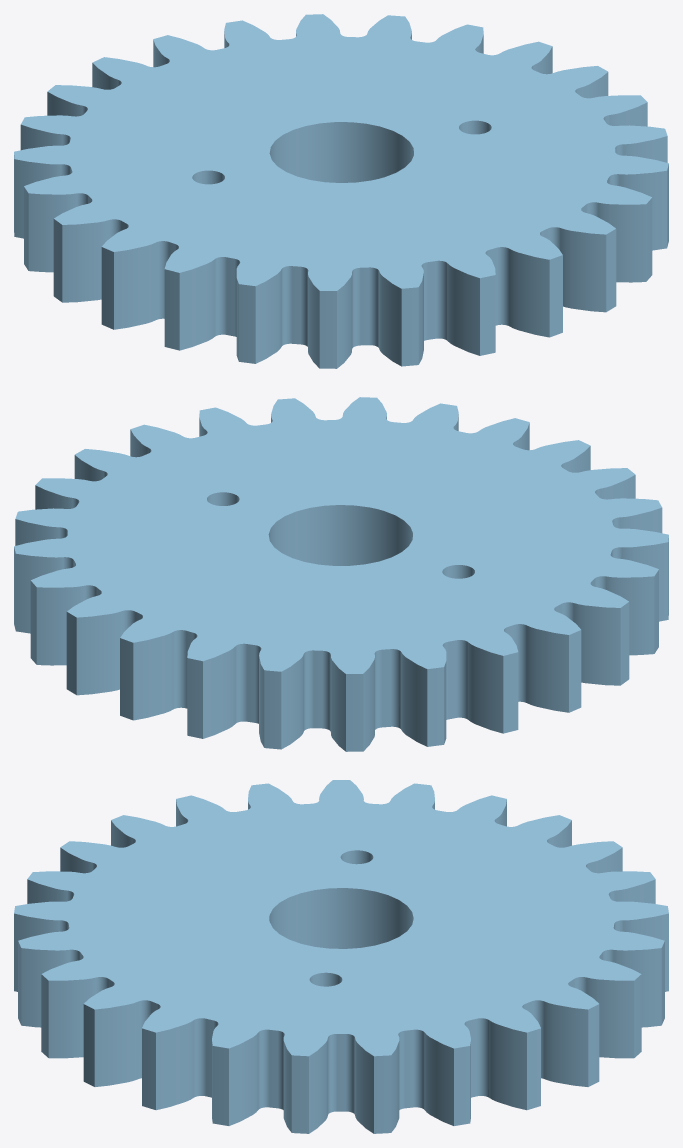
The model's file is Spur_gear__25_teeth_.obj.
3 renders of one model, top to bottom at view 1: azimuth 30°, elevation 25°; view 2: azimuth 150°, elevation 25°; view 3: azimuth 270°, elevation 25°, orthographic.
Parts seen in each view (by area): view 1: mesh725, mesh877, mesh816, mesh847, mesh852, mesh821, mesh837, mesh801, mesh826, mesh857, mesh842, mesh796 (+30 smaller); view 2: mesh725, mesh877, mesh777, mesh861, mesh856, mesh782, mesh871, mesh762, mesh787, mesh851, mesh866, mesh757 (+30 smaller); view 3: mesh725, mesh877, mesh756, mesh797, mesh761, mesh802, mesh766, mesh807, mesh771, mesh812, mesh776, mesh817 (+31 smaller).
Part boxes in pixels (x1,y1,x2,y2): mesh725: (14, 14, 668, 290); mesh877: (269, 122, 413, 182); mesh816: (560, 228, 606, 312); mesh847: (114, 242, 156, 329); mesh852: (62, 220, 108, 302); mesh821: (509, 249, 549, 337); mesh837: (179, 259, 214, 350); mesh801: (598, 202, 646, 282); mesh826: (447, 264, 479, 355); mesh857: (28, 193, 76, 272); mesh842: (255, 269, 281, 363); mesh796: (619, 170, 667, 250); mesh725: (14, 397, 668, 673); mesh877: (268, 505, 412, 565); mesh777: (76, 611, 122, 695); mesh861: (526, 625, 568, 712); mesh856: (574, 603, 620, 685); mesh782: (133, 632, 173, 720); mesh871: (468, 642, 503, 733); mesh762: (36, 585, 84, 665); mesh787: (203, 647, 235, 738); mesh851: (606, 576, 654, 655); mesh866: (401, 652, 427, 746); mesh757: (15, 553, 63, 633); mesh725: (14, 780, 668, 1056); mesh877: (269, 888, 413, 948); mesh756: (544, 1001, 588, 1086); mesh797: (94, 1001, 138, 1086); mesh761: (586, 977, 634, 1058); mesh802: (48, 977, 96, 1058); mesh766: (489, 1020, 526, 1110); mesh807: (156, 1020, 193, 1110); mesh771: (424, 1033, 453, 1125); mesh812: (229, 1033, 258, 1125); mesh776: (613, 948, 661, 1027); mesh817: (21, 948, 69, 1027).
Size of the model in its own units: 0.0539 by 0.00706 by 0.054.
